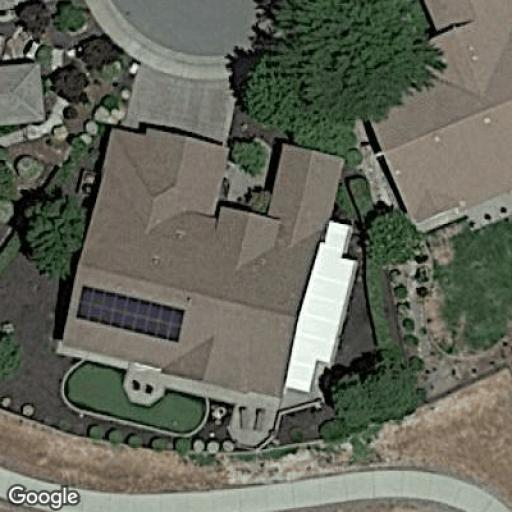solar-panel: (74, 282, 187, 346)
